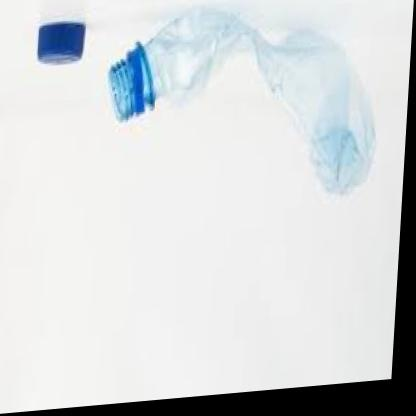trash: (109, 9, 374, 192), (38, 22, 84, 63)
